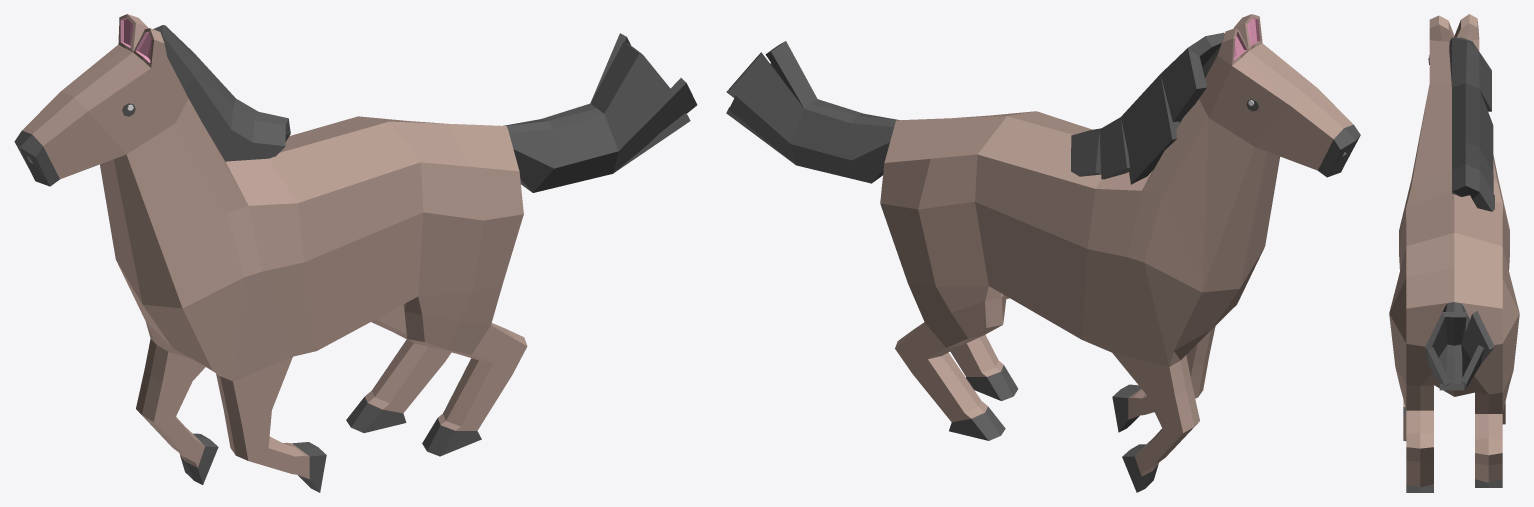
The model's file is horse.glb.
The picture shows the model from 3 angles, left to right: view 1: azimuth 30°, elevation 25°; view 2: azimuth 150°, elevation 25°; view 3: azimuth 270°, elevation 25°; orthographic projection. The views are drawn at different scales.
Parts seen in each view (by area): view 1: node-0; view 2: node-0; view 3: node-0.
Part boxes in pixels (<box>): node-0: <box>14,14,697,492</box>; node-0: <box>726,14,1360,492</box>; node-0: <box>1389,14,1519,492</box>.
Size of the model in its own units: 279 by 198 by 61.35.
